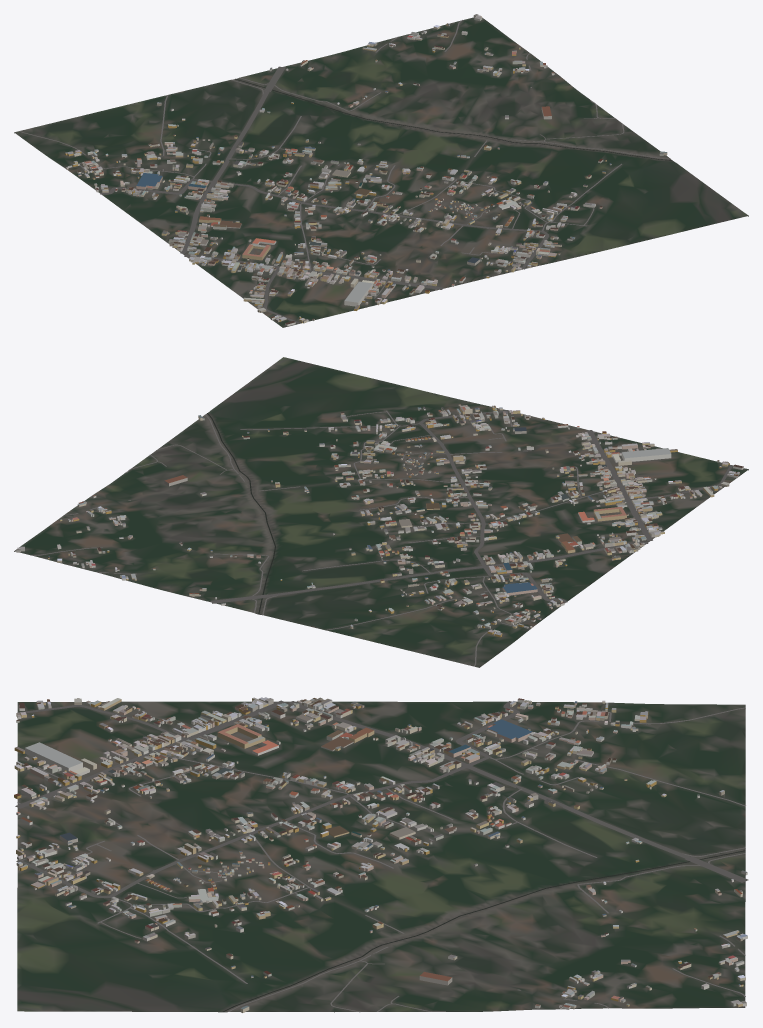
3 renders of one model, top to bottom at view 1: azimuth 30°, elevation 25°; view 2: azimuth 150°, elevation 25°; view 3: azimuth 270°, elevation 25°, orthographic. The views are drawn at different scales.
Parts seen in each view (by area): view 1: ground, buildings, roads, water; view 2: ground, buildings, roads; view 3: ground, buildings, roads, water.
Boxes of the visible parts, x1=… form: ground: x1=14, y1=17, x2=748, y2=327; buildings: x1=65, y1=14, x2=667, y2=326; roads: x1=19, y1=20, x2=670, y2=323; water: x1=235, y1=78, x2=672, y2=160; ground: x1=14, y1=357, x2=748, y2=667; buildings: x1=16, y1=404, x2=743, y2=637; roads: x1=30, y1=410, x2=732, y2=666; ground: x1=17, y1=701, x2=745, y2=1012; buildings: x1=14, y1=697, x2=747, y2=1012; roads: x1=15, y1=700, x2=748, y2=1012; water: x1=222, y1=850, x2=745, y2=1011.
Size of the model in its own units: 1414 by 22.04 by 1414.
